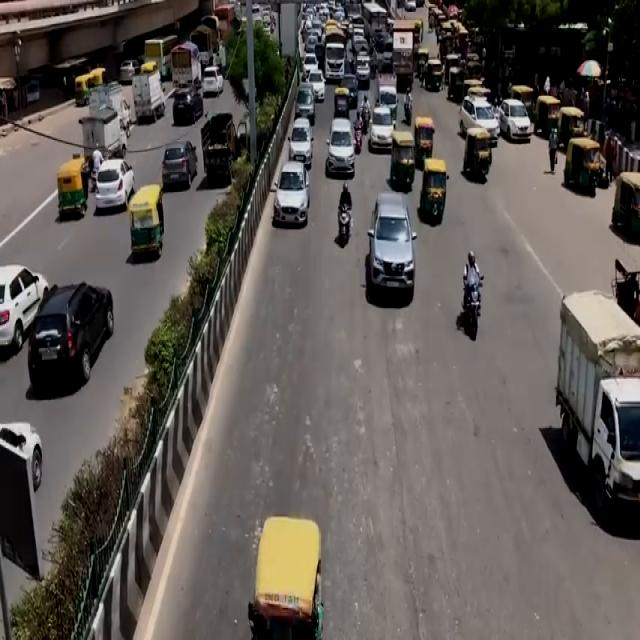MOTORCYCLE: (469, 276, 485, 341), (340, 207, 352, 248)
TRUCK: (559, 298, 639, 525), (171, 46, 201, 92)
